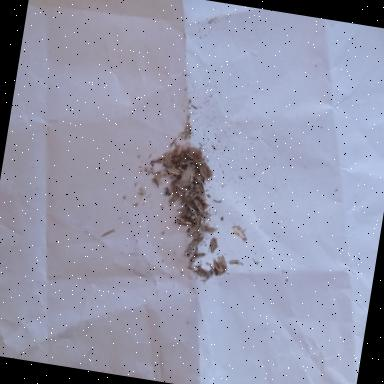pbw: (178, 162, 197, 188), (184, 150, 208, 166), (214, 256, 232, 276), (192, 198, 206, 212), (207, 237, 218, 254), (166, 166, 180, 175)
